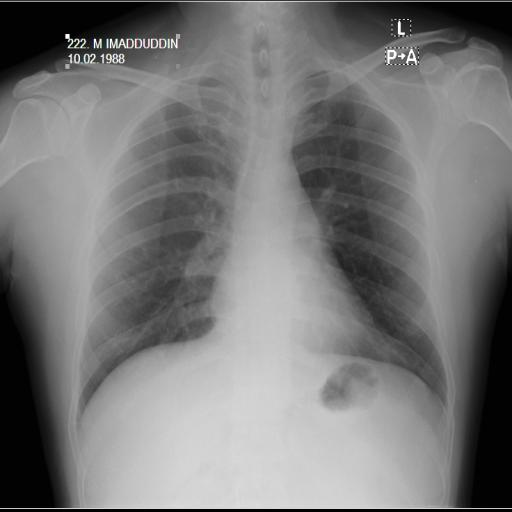normal: (66, 40, 467, 454)
